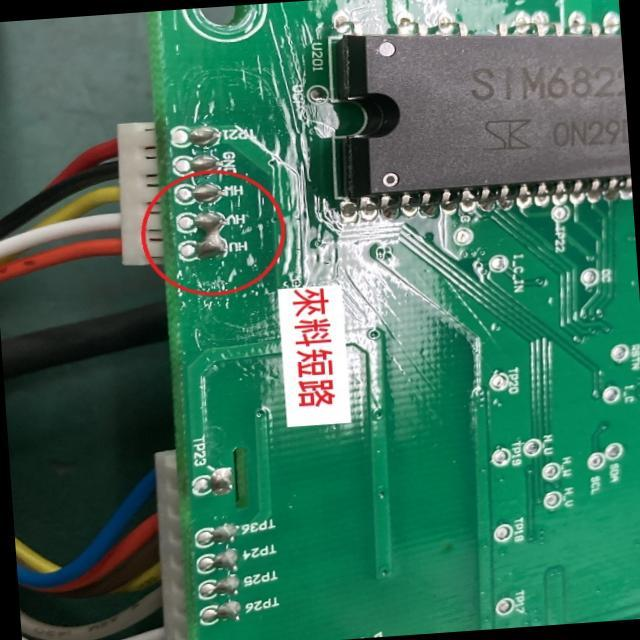Short_circuit: (195, 211, 227, 258)
